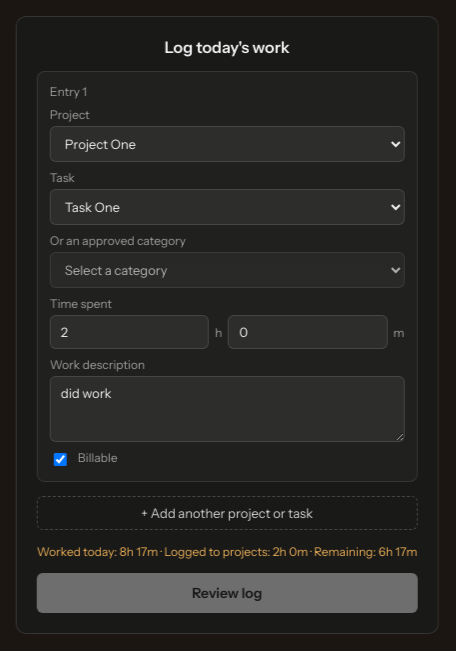
Test: TimeLogForm time spent (HH:MM) › clamps negative hours to zero
This screenshot has width=456, height=651.
Replace the text in the number field named "Hours" with "-3" at (129, 332), box left=50, top=315, right=209, bottom=349
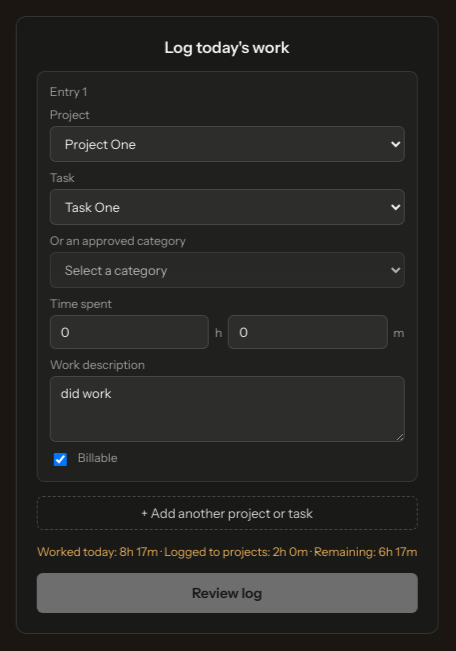
Result: the number field named "Hours" holds "0" at left=50, top=315, right=209, bottom=349
